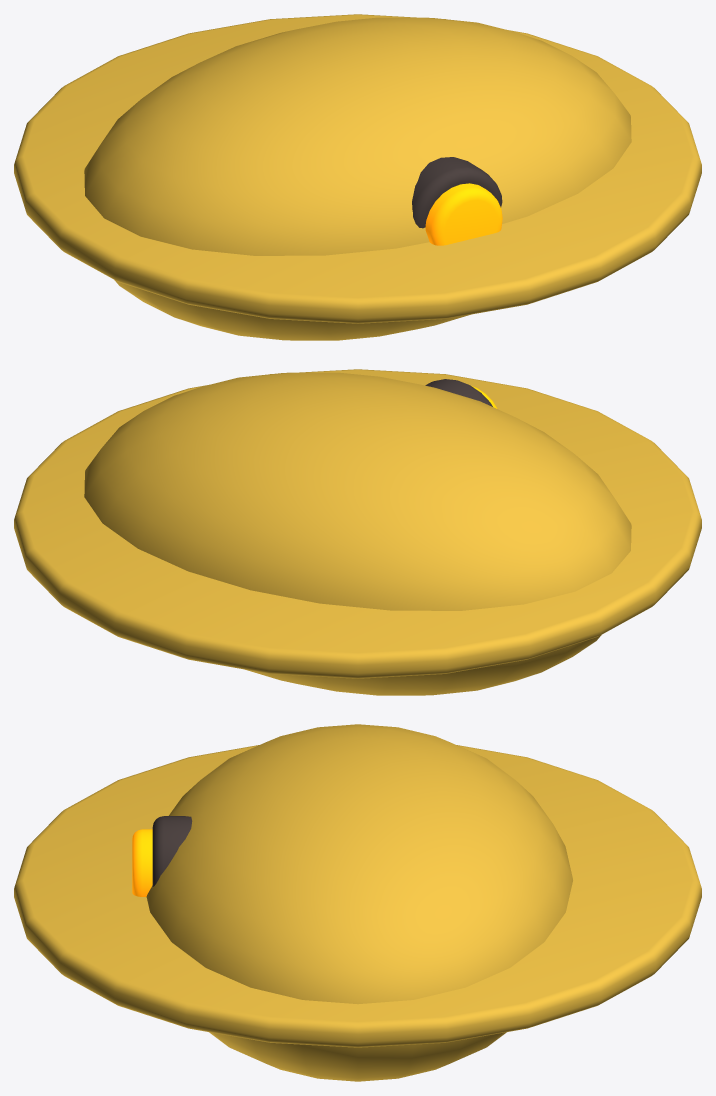
Rendered from part_helmet.glb.
3 views of the same model, one above another, from view 1: azimuth 30°, elevation 25°; view 2: azimuth 150°, elevation 25°; view 3: azimuth 270°, elevation 25° (orthographic).
Parts seen in each view (by area): view 1: Helmet_Dome, Helmet_Brim, Helmet_Lamp, Helmet_LampCase; view 2: Helmet_Dome, Helmet_Brim, Helmet_LampCase; view 3: Helmet_Dome, Helmet_Brim, Helmet_LampCase, Helmet_Lamp.
Part boxes in pixels (bbox=[...]): Helmet_Dome: bbox=[84, 17, 631, 340]; Helmet_Brim: bbox=[14, 14, 701, 323]; Helmet_Lamp: bbox=[425, 183, 502, 245]; Helmet_LampCase: bbox=[412, 157, 502, 228]; Helmet_Dome: bbox=[84, 372, 631, 695]; Helmet_Brim: bbox=[14, 369, 701, 678]; Helmet_LampCase: bbox=[425, 379, 492, 406]; Helmet_Dome: bbox=[146, 724, 572, 1081]; Helmet_Brim: bbox=[14, 745, 701, 1047]; Helmet_LampCase: bbox=[152, 816, 192, 886]; Helmet_Lamp: bbox=[132, 829, 152, 896].
Size of the model in its own units: 1.24 by 0.504 by 1.24.
